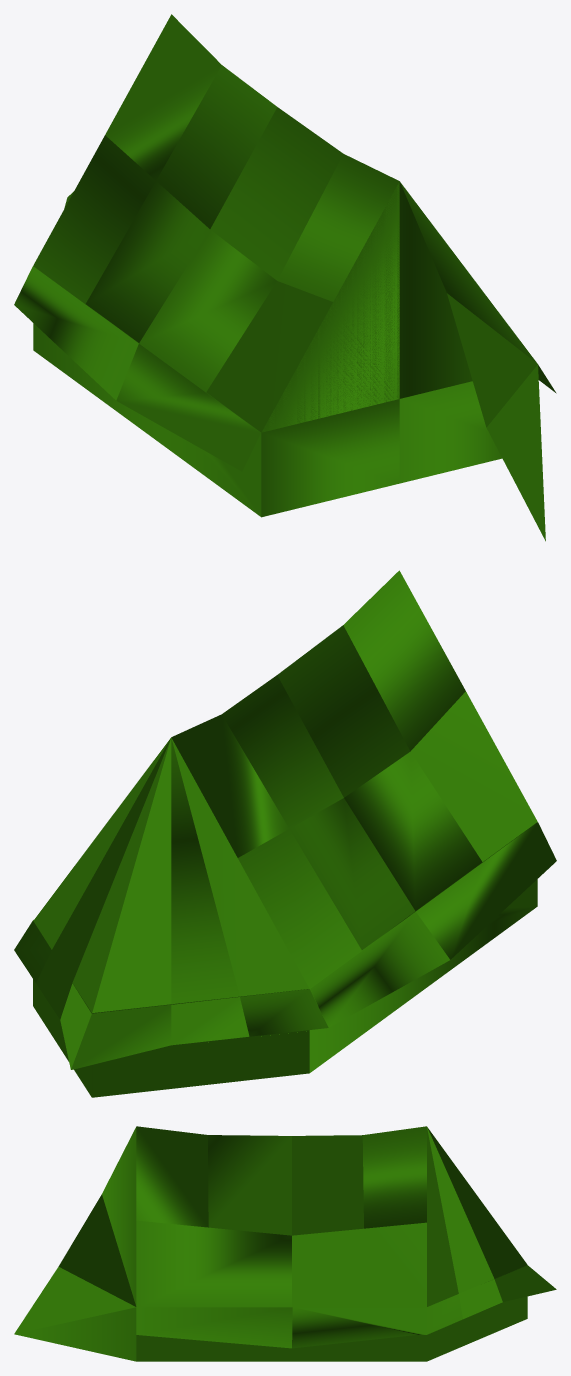
Rendered from Tent-classic-c.fbx.
The picture shows the model from 3 angles, top to bottom: view 1: azimuth 30°, elevation 25°; view 2: azimuth 150°, elevation 25°; view 3: azimuth 270°, elevation 25°; orthographic projection. The views are drawn at different scales.
Visible parts, largest first — view 1: Zelt6a_klassisch__1; view 2: Zelt6a_klassisch__1; view 3: Zelt6a_klassisch__1.
Part boxes in pixels (box(x1,y1,x2,y2)): Zelt6a_klassisch__1: box(14, 14, 556, 541); Zelt6a_klassisch__1: box(14, 570, 556, 1097); Zelt6a_klassisch__1: box(14, 1126, 556, 1361).
Size of the model in its own units: 189 by 160 by 409.
